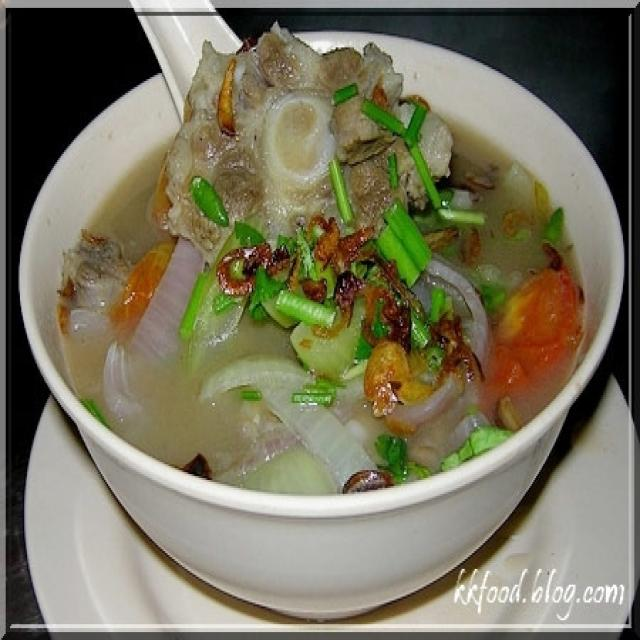汤锅炖物: (23, 34, 616, 528)
